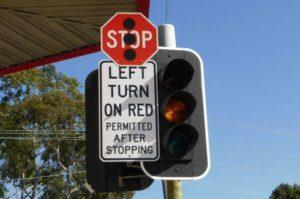yellow_light: (140, 47, 212, 180)
